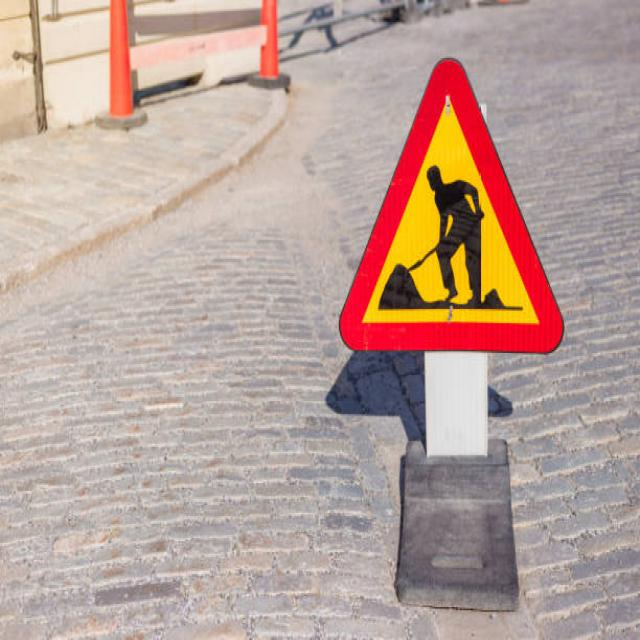road_work: (337, 52, 565, 360)
